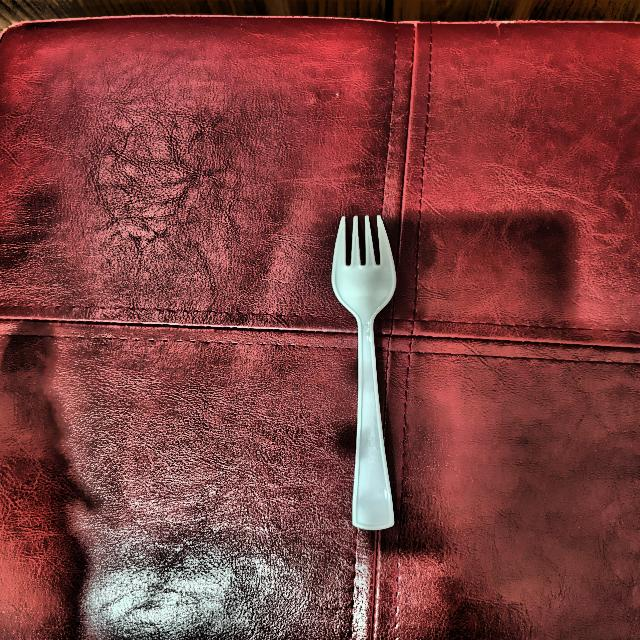plastic utensil: (331, 212, 415, 532)
